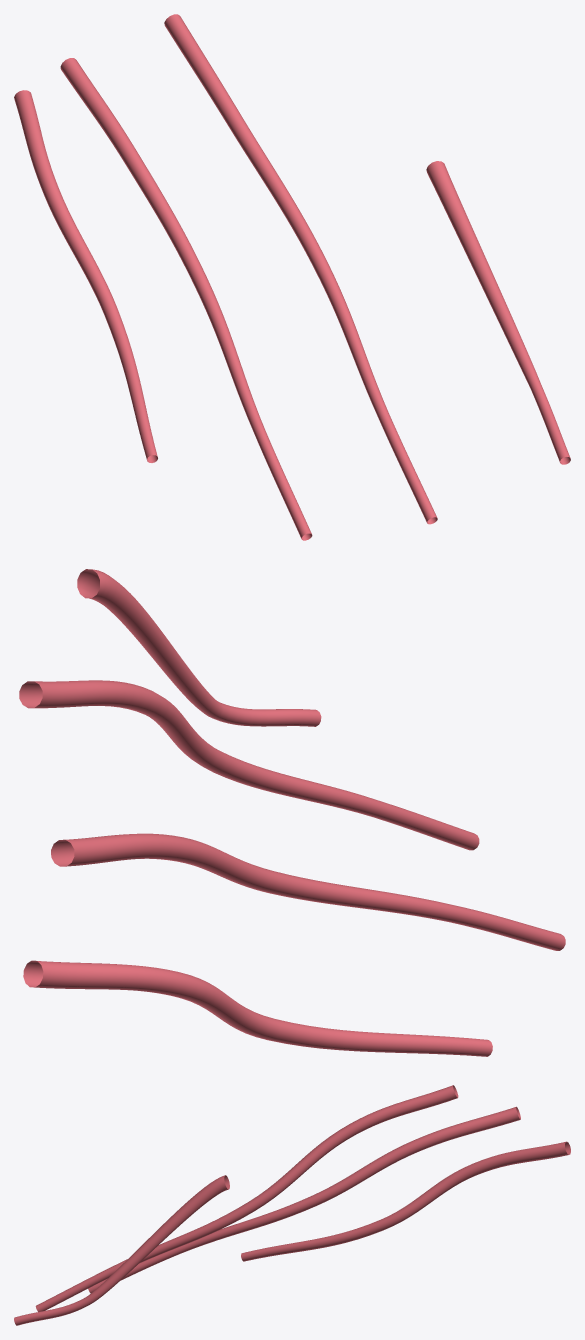
3 renders of one model, top to bottom at view 1: azimuth 30°, elevation 25°; view 2: azimuth 150°, elevation 25°; view 3: azimuth 270°, elevation 25°, orthographic. The views are drawn at different scales.
Parts seen in each view (by area): view 1: ZA_16ca3cbae86313e9; view 2: ZA_16ca3cbae86313e9; view 3: ZA_16ca3cbae86313e9.
Boxes of the visible parts, bbox=[...] form: ZA_16ca3cbae86313e9: bbox=[14, 14, 570, 540]; ZA_16ca3cbae86313e9: bbox=[19, 569, 565, 1056]; ZA_16ca3cbae86313e9: bbox=[14, 1085, 570, 1325].
Bounding box in the file's own units: 0.0405 × 0.0433 × 0.0884.
